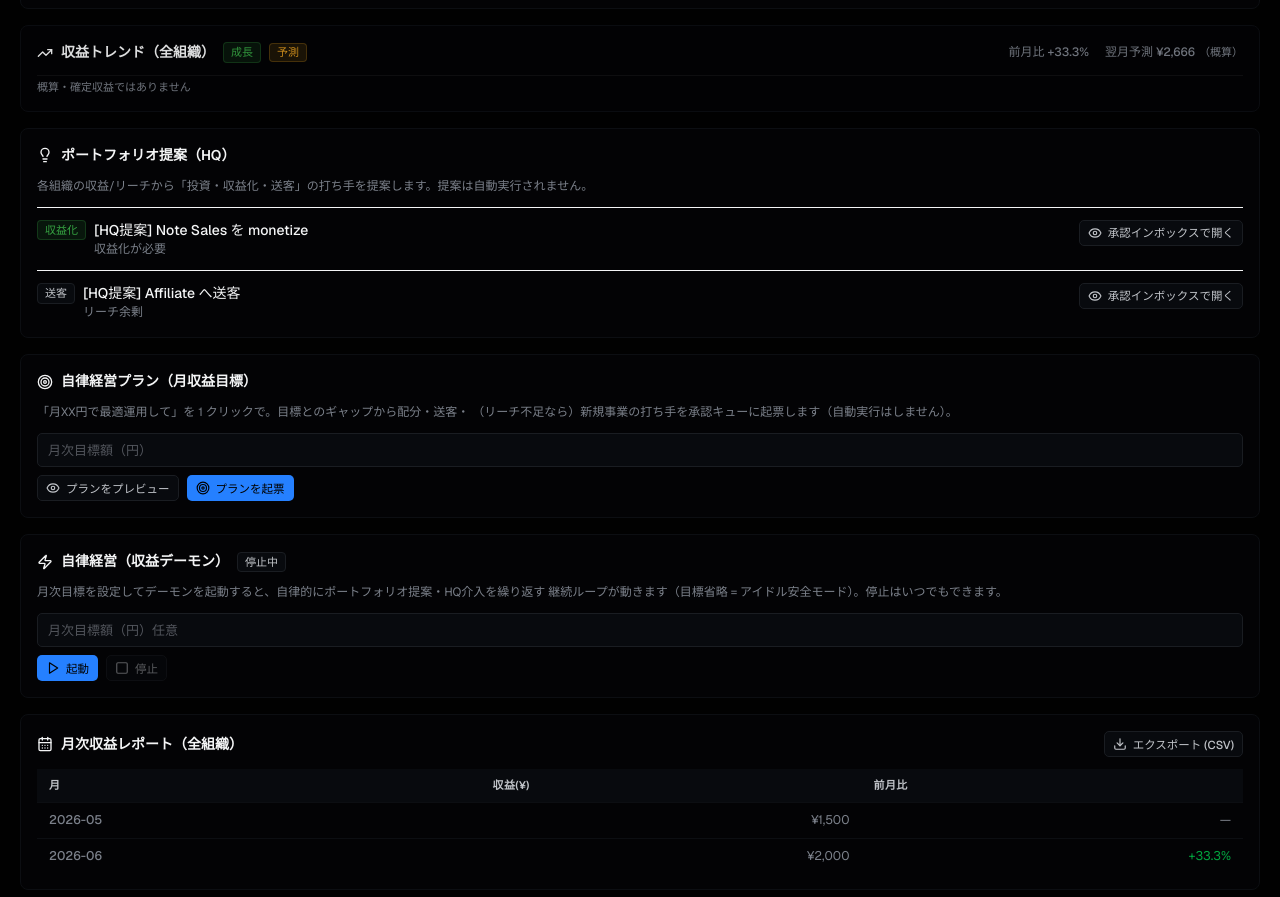
Test: 目標到達の見通し（projection card） › 達成済みケース: months_to_target=0 のとき「目標達成済み」を表示する
(page scrolled)
Check: the text "自律経営プラン（月収益目標）" is shown, box [61,371,257,392]
Type "100000" into the number field with placeholder "月次目標額（円）". click: (640, 450)
box: [37,433,1243,467]
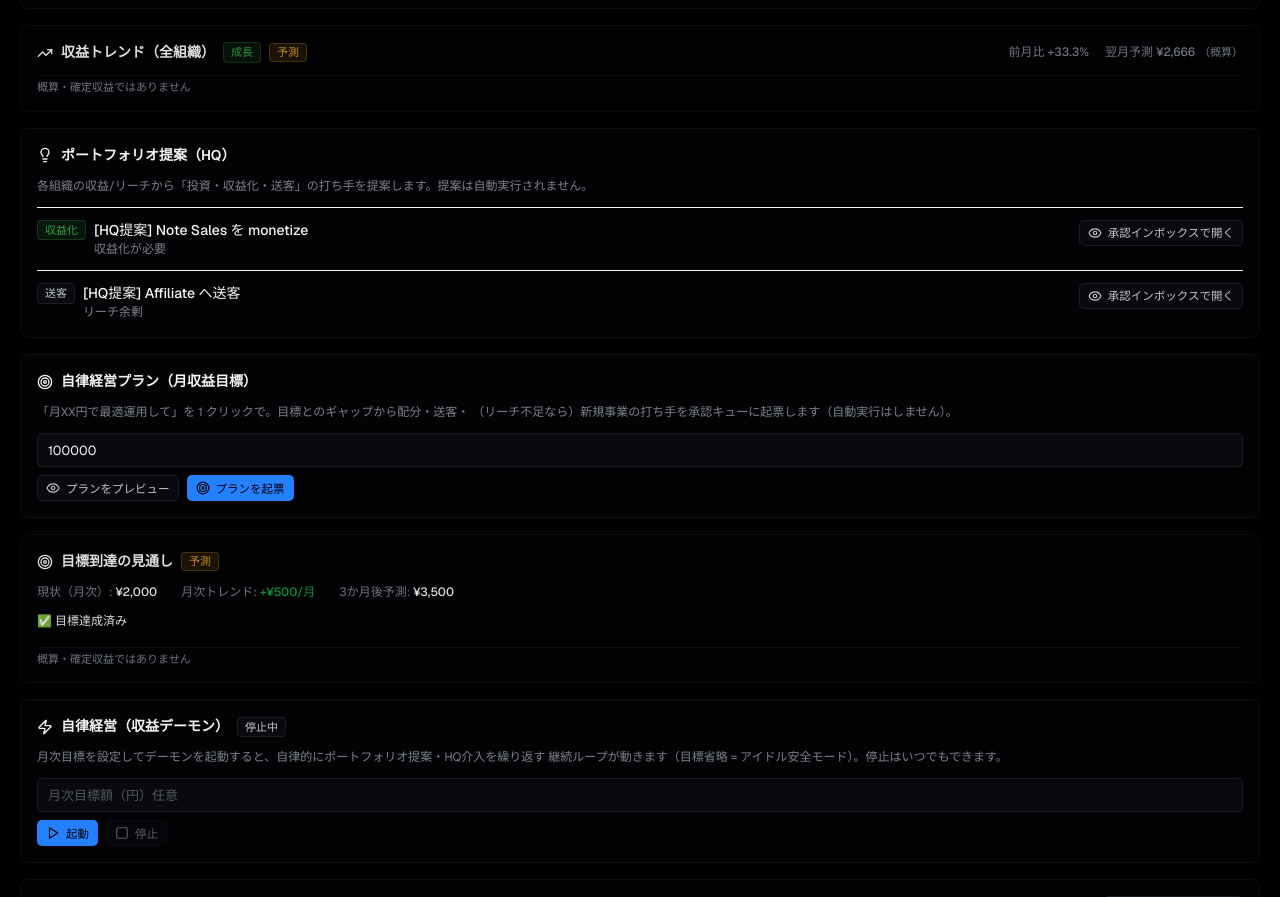
Check: the text "✅ 目標達成済み" is shown, box [37,614,127,630]
